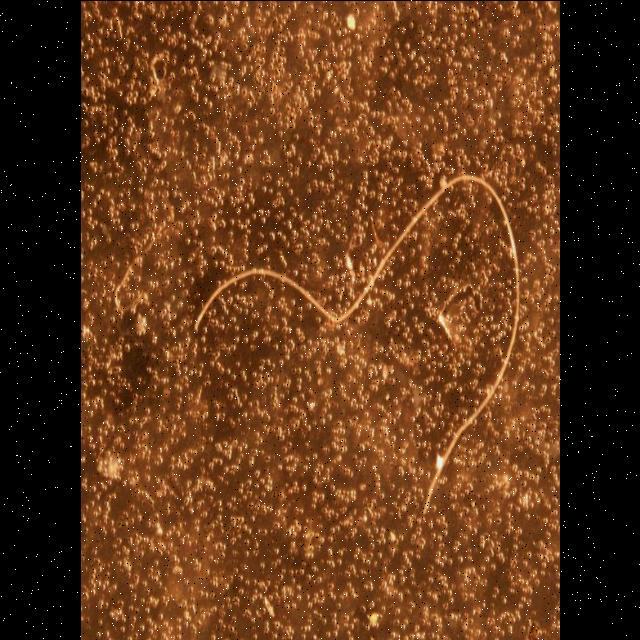Fibre: (193, 170, 521, 520)
